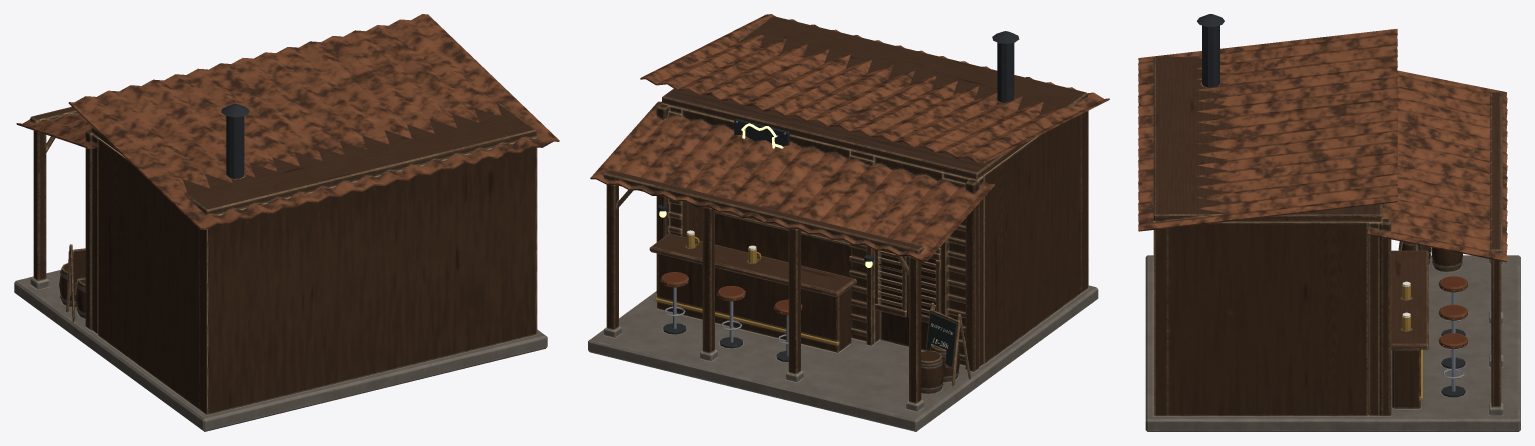
Rendered from bar_cantina.fbx.
3 renders of one model, left to right at view 1: azimuth 30°, elevation 25°; view 2: azimuth 150°, elevation 25°; view 3: azimuth 270°, elevation 25°, orthographic. The views are drawn at different scales.
Parts seen in each view (by area): view 1: bar_cantina; view 2: bar_cantina, bar_cantina_puerta_izq, bar_cantina_puerta_der; view 3: bar_cantina.
Boxes of the visible parts, x1,y1,x2,y2 form: bar_cantina: (14,14,559,431); bar_cantina: (588,14,1109,431); bar_cantina_puerta_izq: (873,249,907,317); bar_cantina_puerta_der: (908,248,940,322); bar_cantina: (1138,14,1520,431).
Size of the model in its own units: 10.01 by 7.65 by 9.38.
4 materials, 1 textured.
